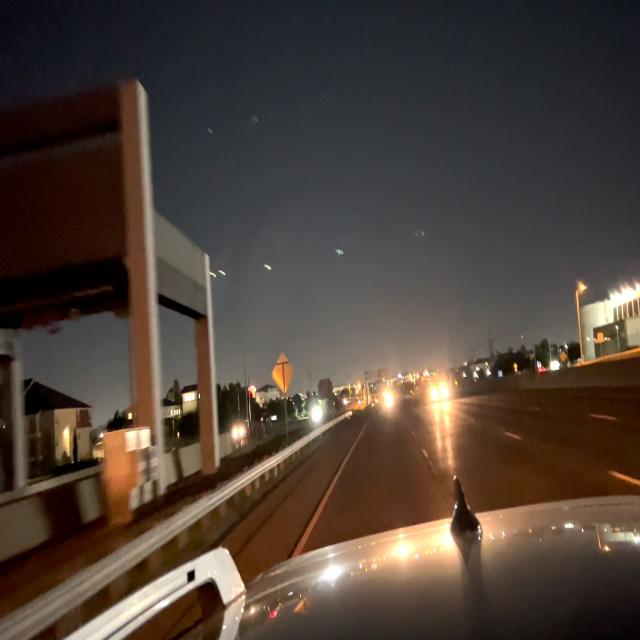back-of-sign: (272, 352, 294, 393)
